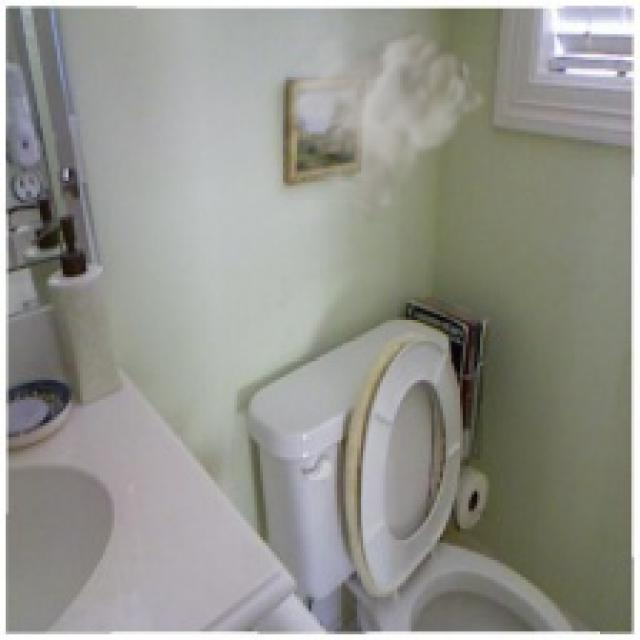Smoke: (277, 8, 489, 232)
